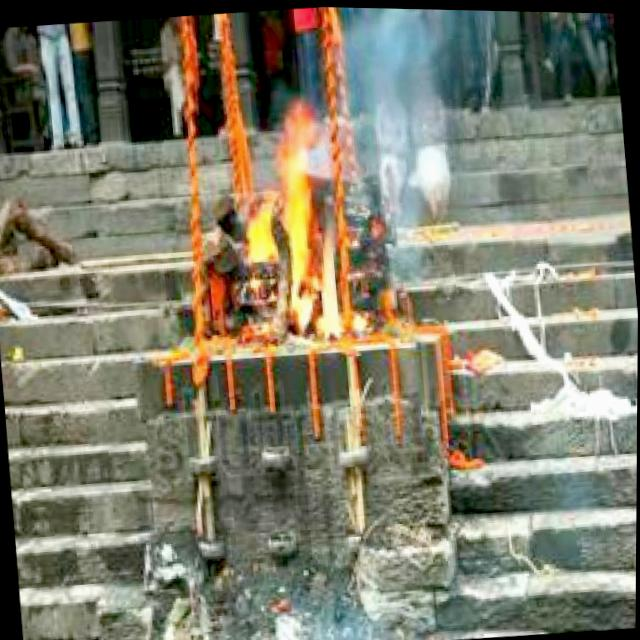helmet: (234, 118, 351, 352)
